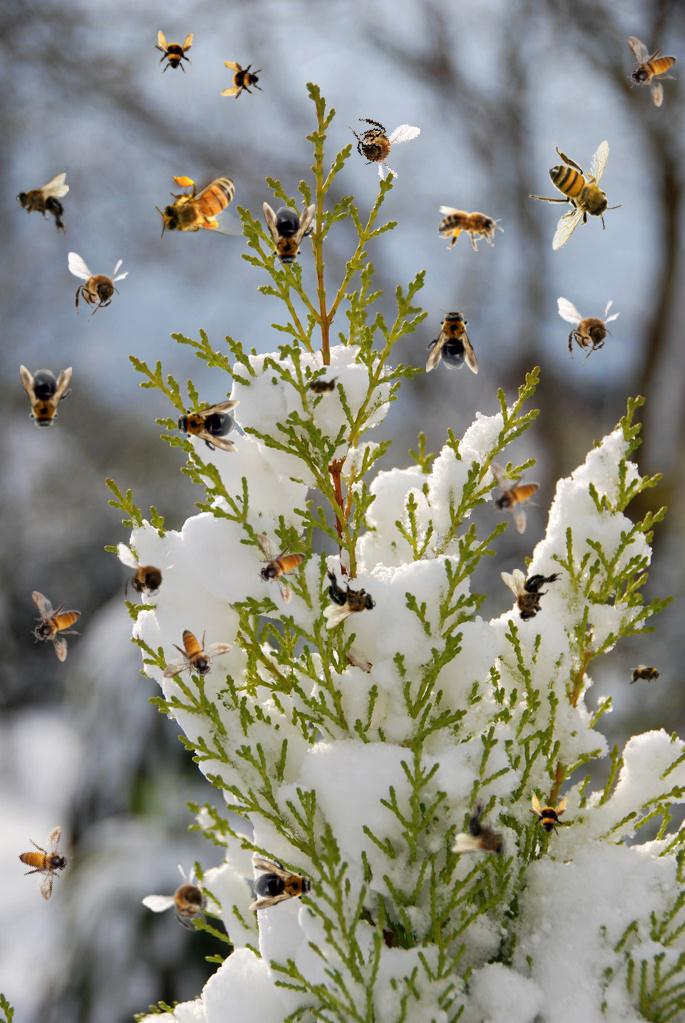Bee: (529, 140, 623, 251), (140, 853, 233, 945), (5, 816, 87, 903), (335, 107, 422, 187), (155, 172, 248, 240), (446, 795, 523, 875), (557, 292, 624, 368), (117, 542, 178, 612), (68, 252, 129, 322), (627, 36, 677, 107), (256, 533, 306, 604), (490, 463, 540, 534), (31, 591, 81, 662), (162, 629, 233, 679), (263, 202, 315, 270), (426, 306, 478, 374), (249, 858, 317, 910), (20, 365, 72, 433), (172, 400, 240, 452), (16, 173, 69, 235), (501, 569, 563, 622), (323, 567, 376, 629), (438, 206, 504, 251), (525, 794, 569, 838), (151, 30, 195, 74), (220, 59, 264, 103), (626, 664, 666, 686), (302, 375, 342, 397)
